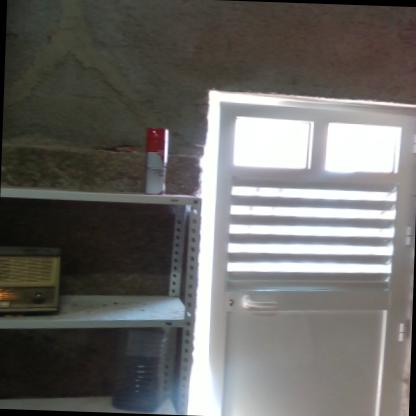closed: (192, 84, 416, 416)
